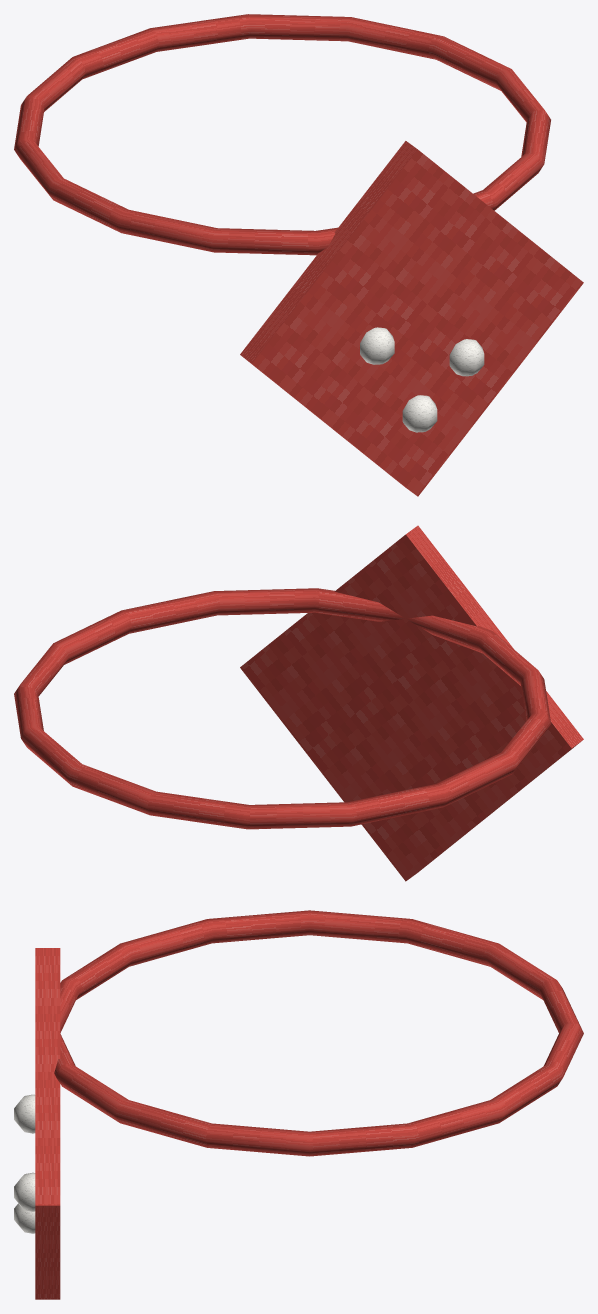
The model's file is panuelo_de_gaucho.glb.
3 views of the same model, one above another, from view 1: azimuth 30°, elevation 25°; view 2: azimuth 150°, elevation 25°; view 3: azimuth 270°, elevation 25° (orthographic).
Parts seen in each view (by area): view 1: _MeshInstance3D_236, _MeshInstance3D_235, _MeshInstance3D_239, _MeshInstance3D_238, _MeshInstance3D_237; view 2: _MeshInstance3D_236, _MeshInstance3D_235; view 3: _MeshInstance3D_235, _MeshInstance3D_236, _MeshInstance3D_237, _MeshInstance3D_238.
Boxes of the visible parts, bbox=[...] form: _MeshInstance3D_236: bbox=[240, 141, 583, 496]; _MeshInstance3D_235: bbox=[14, 14, 550, 255]; _MeshInstance3D_239: bbox=[402, 395, 437, 432]; _MeshInstance3D_238: bbox=[449, 339, 484, 376]; _MeshInstance3D_237: bbox=[360, 327, 394, 364]; _MeshInstance3D_236: bbox=[240, 525, 583, 881]; _MeshInstance3D_235: bbox=[14, 588, 551, 829]; _MeshInstance3D_235: bbox=[54, 910, 583, 1156]; _MeshInstance3D_236: bbox=[35, 948, 60, 1299]; _MeshInstance3D_237: bbox=[14, 1094, 35, 1133]; _MeshInstance3D_238: bbox=[14, 1172, 35, 1211].
Size of the model in its own units: 0.22 by 0.1556 by 0.2286.
2 materials, 2 textured.
